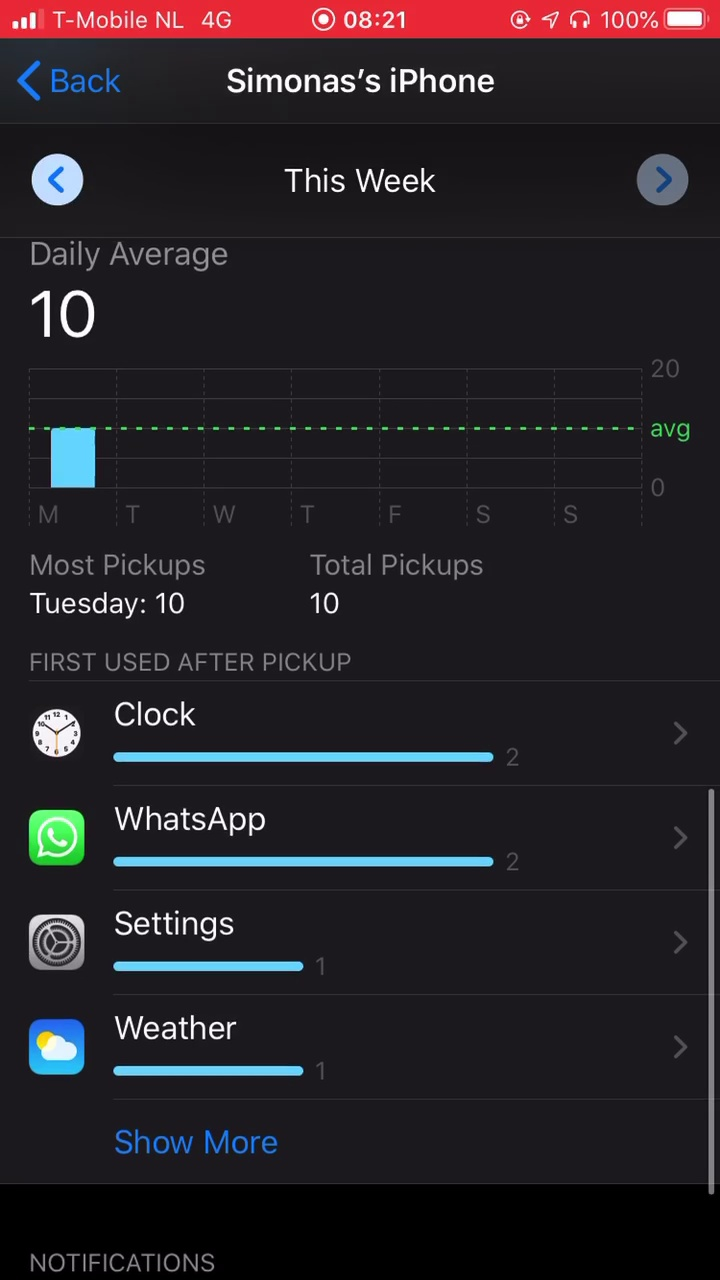pick_app: (15, 694, 546, 786), (17, 799, 542, 888), (12, 908, 395, 996), (14, 1014, 370, 1097)
pick_over: (18, 528, 520, 632)
week: (260, 150, 479, 211)
